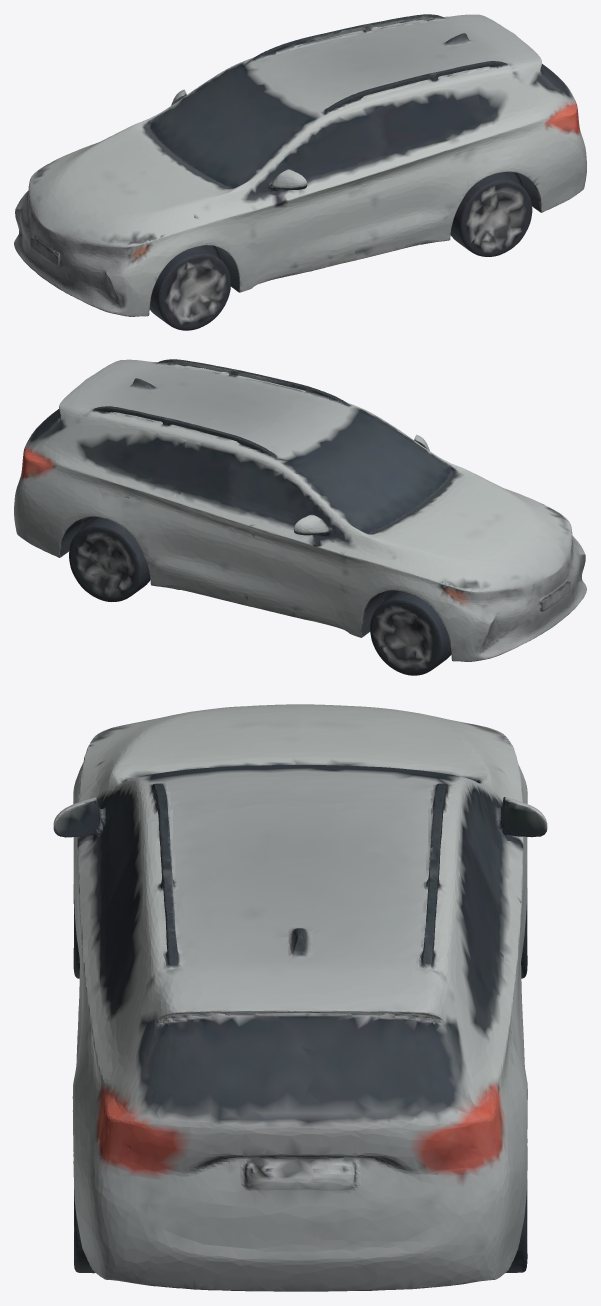
Rendered from bryan_sedan.glb.
The picture shows the model from 3 angles, top to bottom: view 1: azimuth 30°, elevation 25°; view 2: azimuth 150°, elevation 25°; view 3: azimuth 270°, elevation 25°; orthographic projection. The views are drawn at different scales.
Visible parts, largest first — view 1: MeshySedanGeometry; view 2: MeshySedanGeometry; view 3: MeshySedanGeometry.
Boxes of the visible parts, x1,y1,x2,y2 form: MeshySedanGeometry: (14,14,586,330); MeshySedanGeometry: (14,359,586,675); MeshySedanGeometry: (53,704,547,1291).
Size of the model in its own units: 1.9 by 0.63 by 0.7985.
